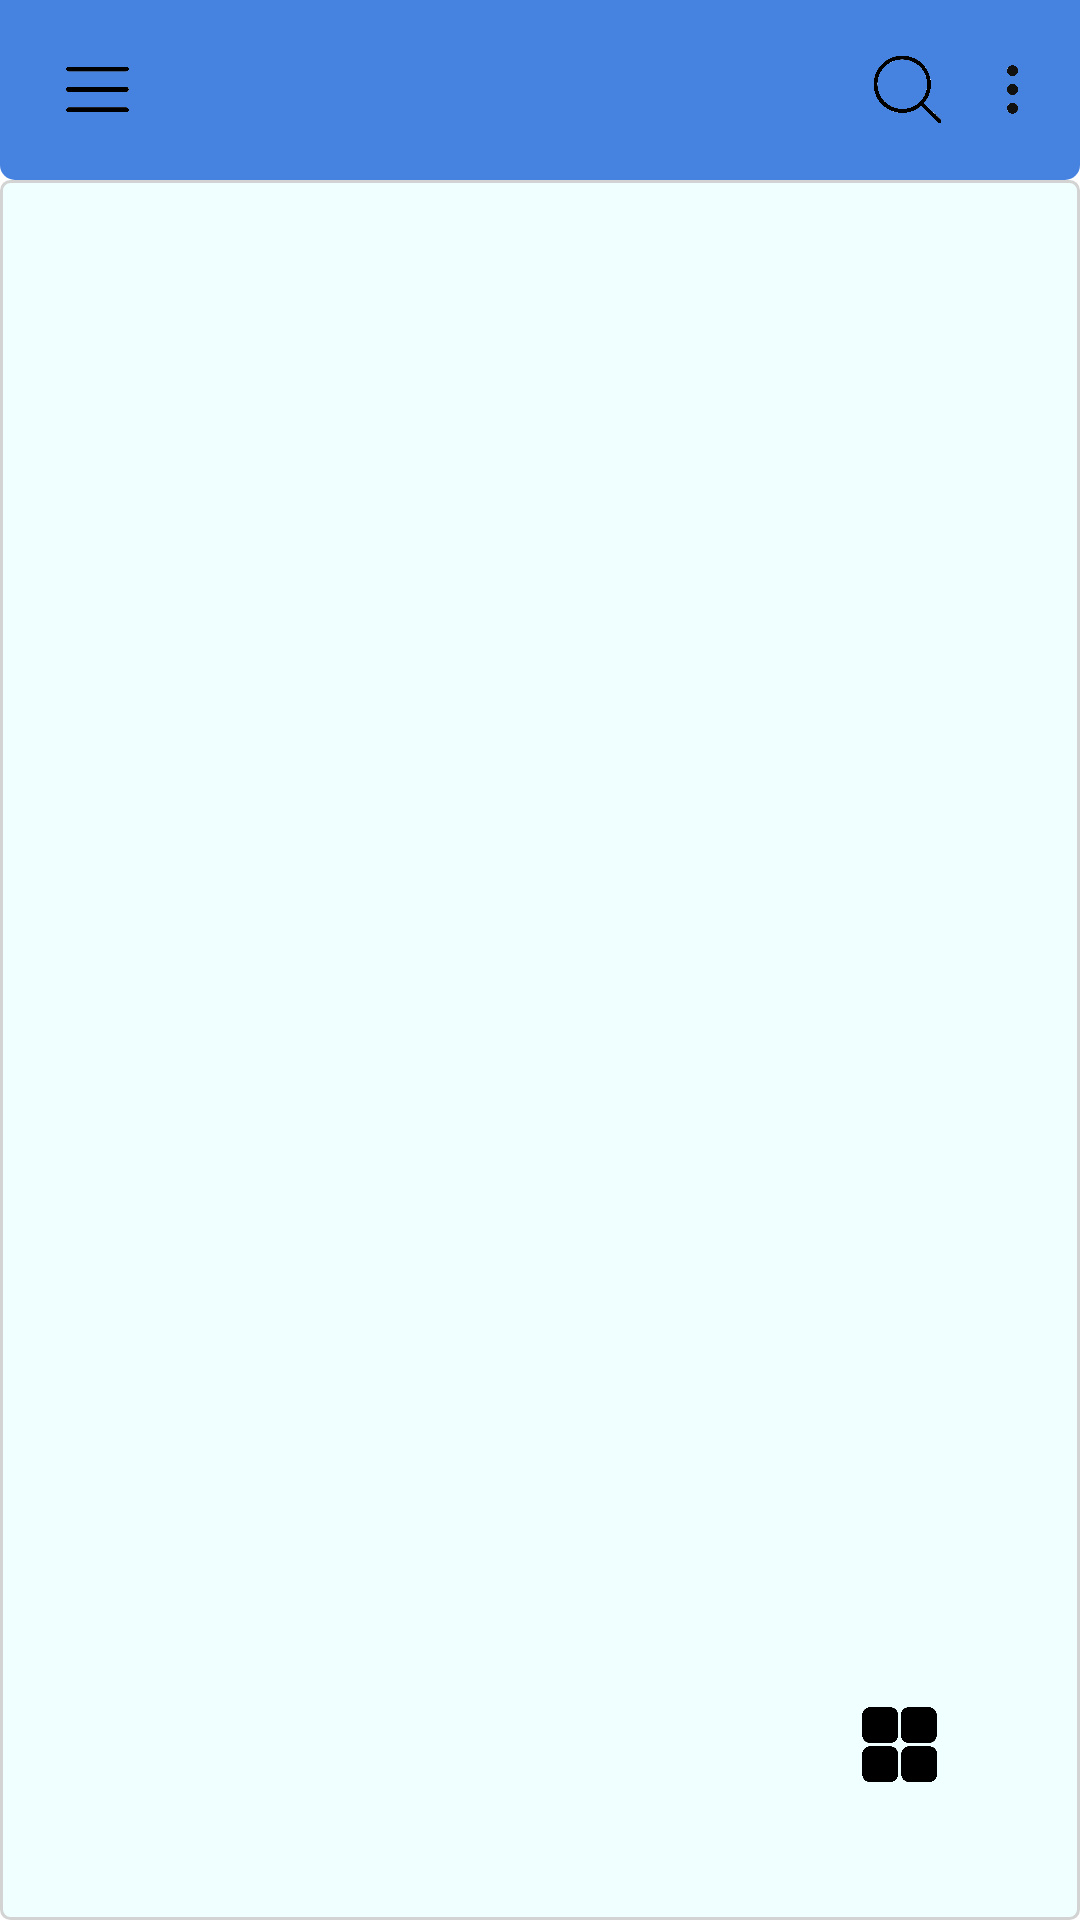

Icon bounding boxes for this 1080×1920 phone screenshot, format bbox=(x1, y1, x2, y2):
搜索: bbox=(874, 56, 941, 123)
菜单栏: bbox=(66, 67, 129, 112)
